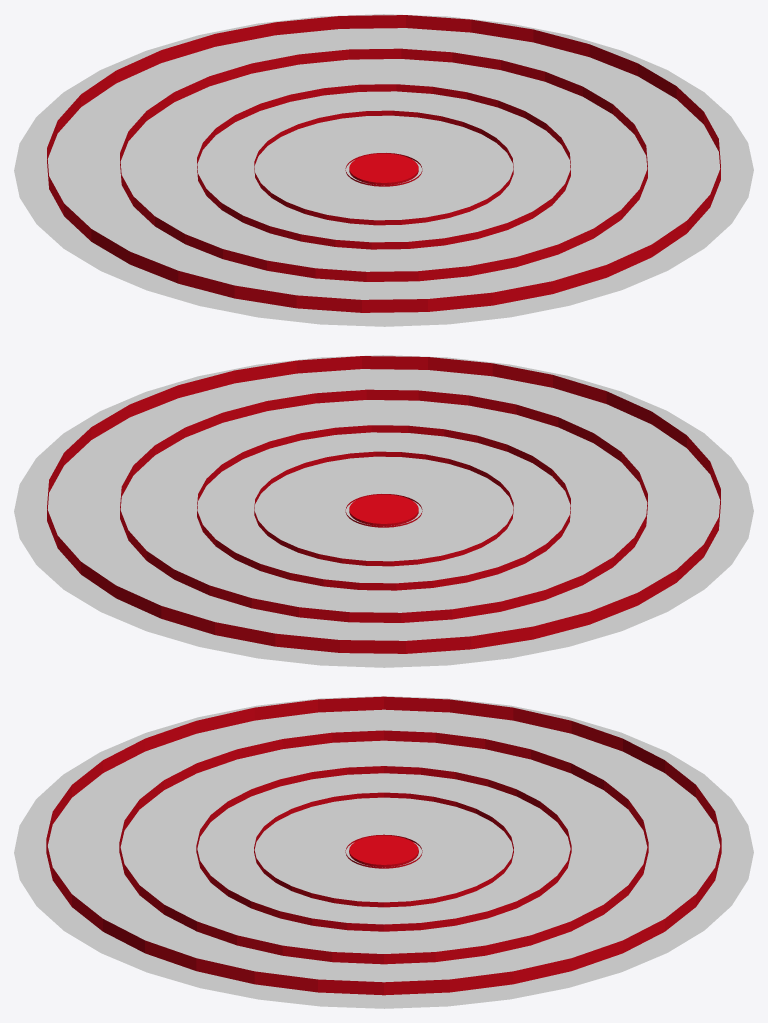
Rendered from target_combined.fbx.
3 renders of one model, top to bottom at view 1: azimuth 30°, elevation 25°; view 2: azimuth 150°, elevation 25°; view 3: azimuth 270°, elevation 25°, orthographic.
Visible parts, largest first — view 1: Disk; view 2: Disk; view 3: Disk.
Part boxes in pixels (left/top/right/bottom): Disk: left=14, top=14, right=753, bottom=326; Disk: left=14, top=355, right=753, bottom=667; Disk: left=14, top=696, right=753, bottom=1008.
Bounding box in the file's own units: 395 × 8.53 × 395.
